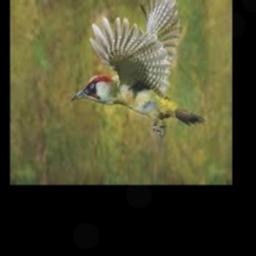Woodpecker: (70, 0, 207, 136)
